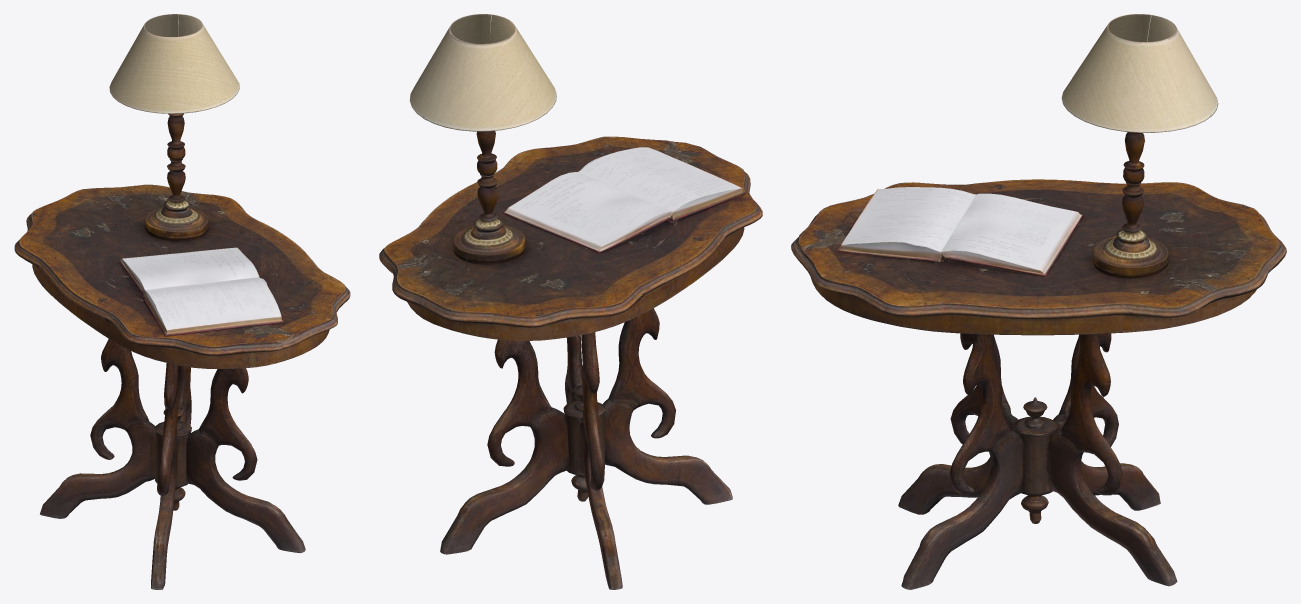
Rendered from table_from_a_gothic_library.glb.
The picture shows the model from 3 angles, left to right: view 1: azimuth 30°, elevation 25°; view 2: azimuth 150°, elevation 25°; view 3: azimuth 270°, elevation 25°; orthographic projection. The views are drawn at different scales.
Visible parts, largest first — view 1: Object_4; view 2: Object_4; view 3: Object_4.
Part boxes in pixels (x1=…): Object_4: x1=14, y1=14, x2=350, y2=589; Object_4: x1=379, y1=14, x2=762, y2=589; Object_4: x1=791, y1=14, x2=1286, y2=589.
Size of the model in its own units: 0.7023 by 1.37 by 1.12.
2 materials, 1 textured.
